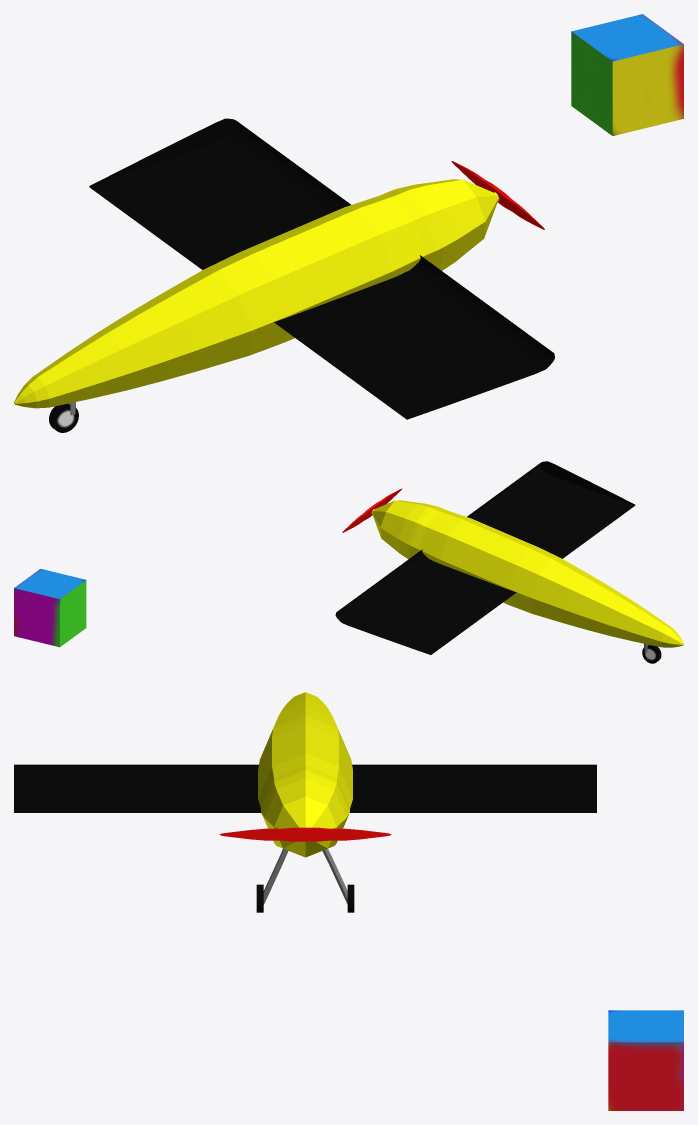
File: faza8_plane_presentable_2.gltf
The picture shows the model from 3 angles, top to bottom: view 1: azimuth 30°, elevation 25°; view 2: azimuth 150°, elevation 25°; view 3: azimuth 270°, elevation 25°; orthographic projection. The views are drawn at different scales.
Parts seen in each view (by area): view 1: Body, Left Wing, Right Wing, Cube, Propeler1, Zadnje Kolo; view 2: Body, Right Wing, Left Wing, Cube, Propeler1; view 3: Left Wing, Right Wing, Body, Cube, Propeler1.
Part boxes in pixels (<box>): Body: <box>14,179,499,408</box>; Left Wing: <box>274,255,554,419</box>; Right Wing: <box>89,118,350,269</box>; Cube: <box>571,14,683,135</box>; Propeler1: <box>451,161,544,229</box>; Zadnje Kolo: <box>49,404,78,432</box>; Body: <box>371,500,683,647</box>; Right Wing: <box>335,549,516,654</box>; Left Wing: <box>467,461,635,558</box>; Cube: <box>14,568,86,647</box>; Propeler1: <box>342,488,401,532</box>; Left Wing: <box>14,764,261,812</box>; Right Wing: <box>350,764,596,812</box>; Body: <box>258,692,352,857</box>; Cube: <box>608,1010,683,1110</box>; Propeler1: <box>219,827,391,841</box>.
Size of what is drawn, in the model's own units: 23.39 by 4.21 by 17.7.
Materials: 6 (6 with a texture image).
